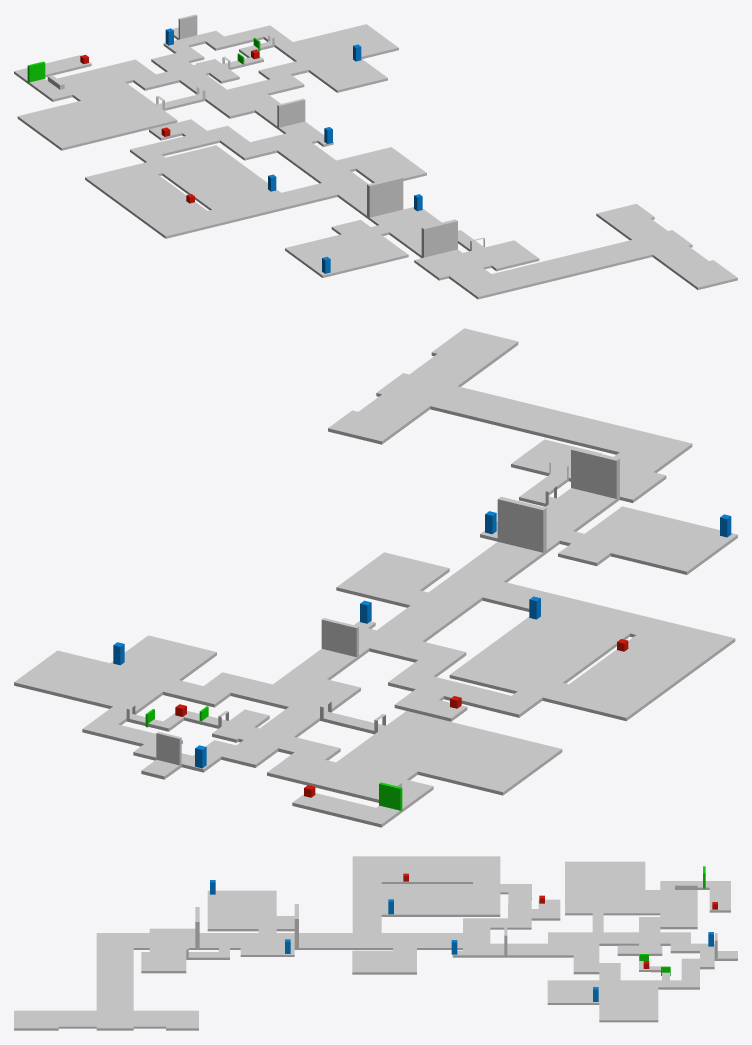
The model's file is maplayoutdesign.fbx.
The picture shows the model from 3 angles, top to bottom: view 1: azimuth 30°, elevation 25°; view 2: azimuth 150°, elevation 25°; view 3: azimuth 270°, elevation 25°; orthographic projection. The views are drawn at different scales.
Visible parts, largest first — view 1: ground layout; view 2: ground layout; view 3: ground layout.
Part boxes in pixels (x1,y1,x2,y2): ground layout: [14, 14, 737, 299]; ground layout: [14, 328, 737, 827]; ground layout: [14, 856, 737, 1030].
Size of the model in its own units: 5930 by 501 by 10535.
